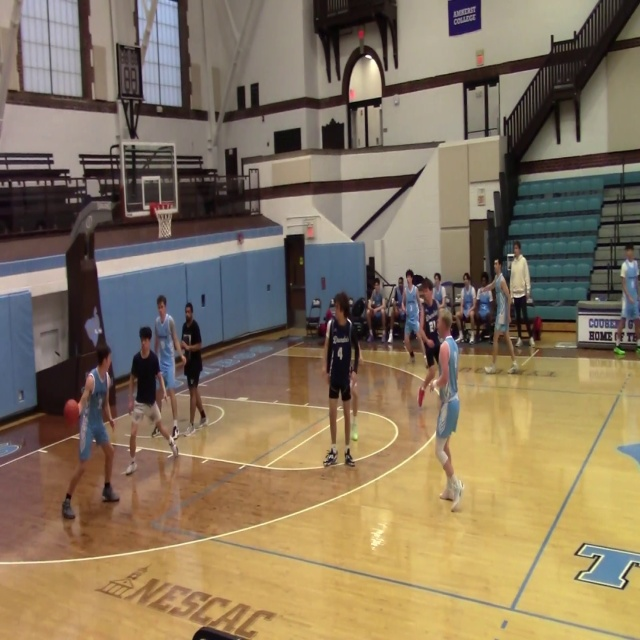Basketball: (63, 399, 79, 423), (131, 408, 144, 423), (351, 431, 358, 441)
